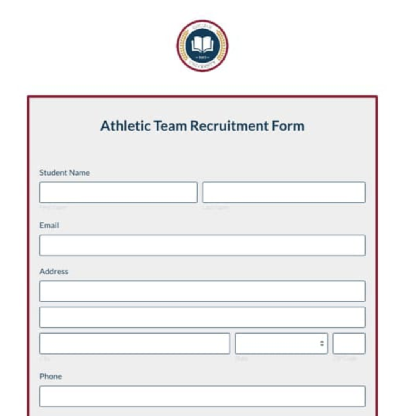textbox: (38, 382, 368, 411), (36, 305, 369, 331), (37, 232, 369, 258), (37, 278, 368, 304), (36, 331, 233, 358), (38, 179, 199, 205), (203, 181, 367, 205), (234, 331, 330, 356), (331, 332, 369, 355)
